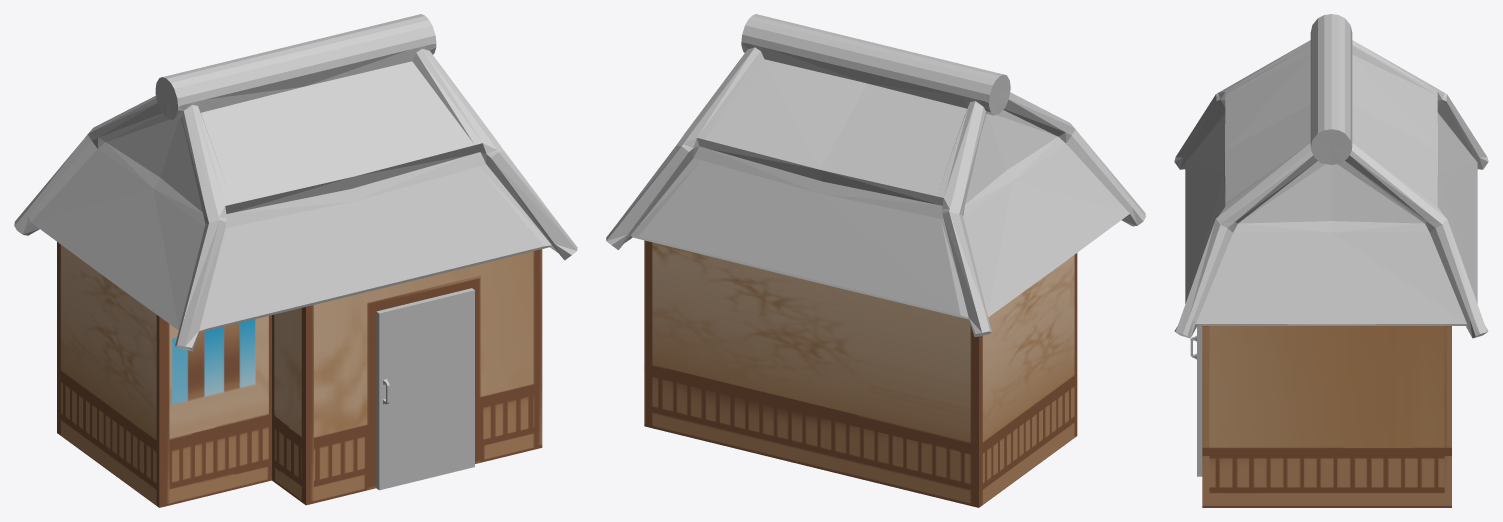
Rendered from house2.obj.
The picture shows the model from 3 angles, left to right: view 1: azimuth 30°, elevation 25°; view 2: azimuth 150°, elevation 25°; view 3: azimuth 270°, elevation 25°; orthographic projection. The views are drawn at different scales.
Parts seen in each view (by area): view 1: mesh_2, mesh_0, mesh_1; view 2: mesh_2, mesh_0; view 3: mesh_2, mesh_0, mesh_1.
Boxes of the visible parts, left/top/right/bottom form: mesh_2: left=14, top=14, right=577, bottom=350; mesh_0: left=57, top=242, right=542, bottom=507; mesh_1: left=376, top=288, right=474, bottom=490; mesh_2: left=606, top=14, right=1145, bottom=337; mesh_0: left=644, top=240, right=1077, bottom=507; mesh_2: left=1174, top=14, right=1488, bottom=338; mesh_0: left=1202, top=326, right=1451, bottom=507; mesh_1: left=1190, top=326, right=1202, bottom=476.
Bounding box in the file's own units: 1.07 × 1 × 0.7959.
